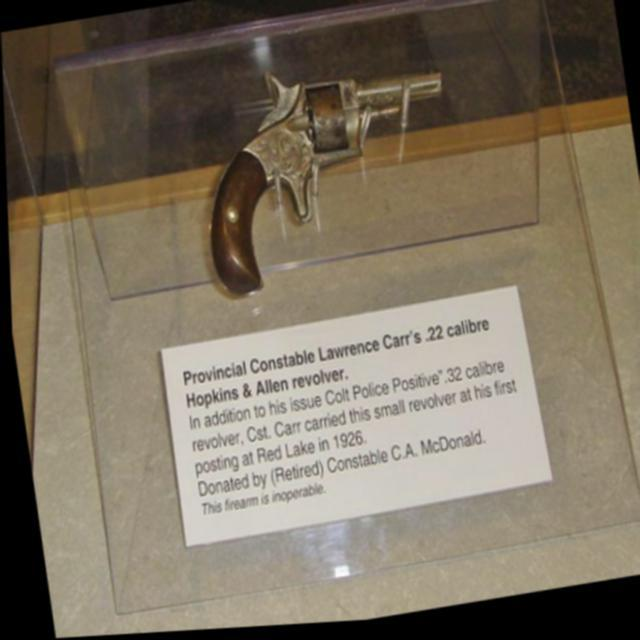weapon: (184, 44, 465, 304)
